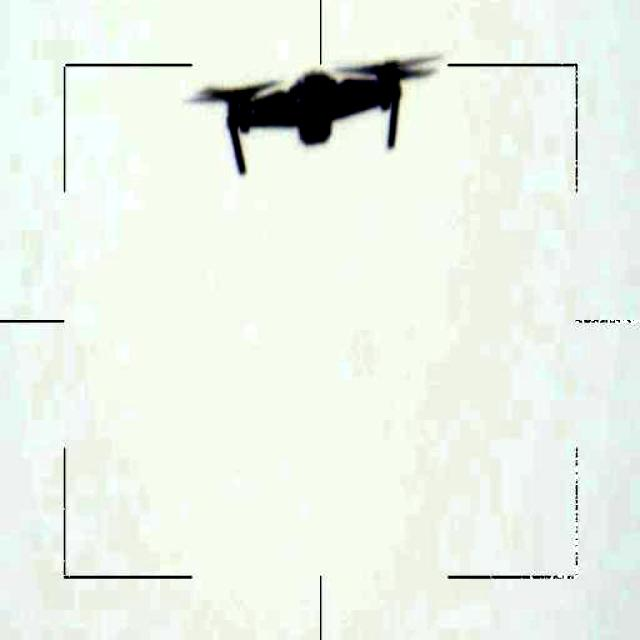bird: (178, 46, 444, 179)
